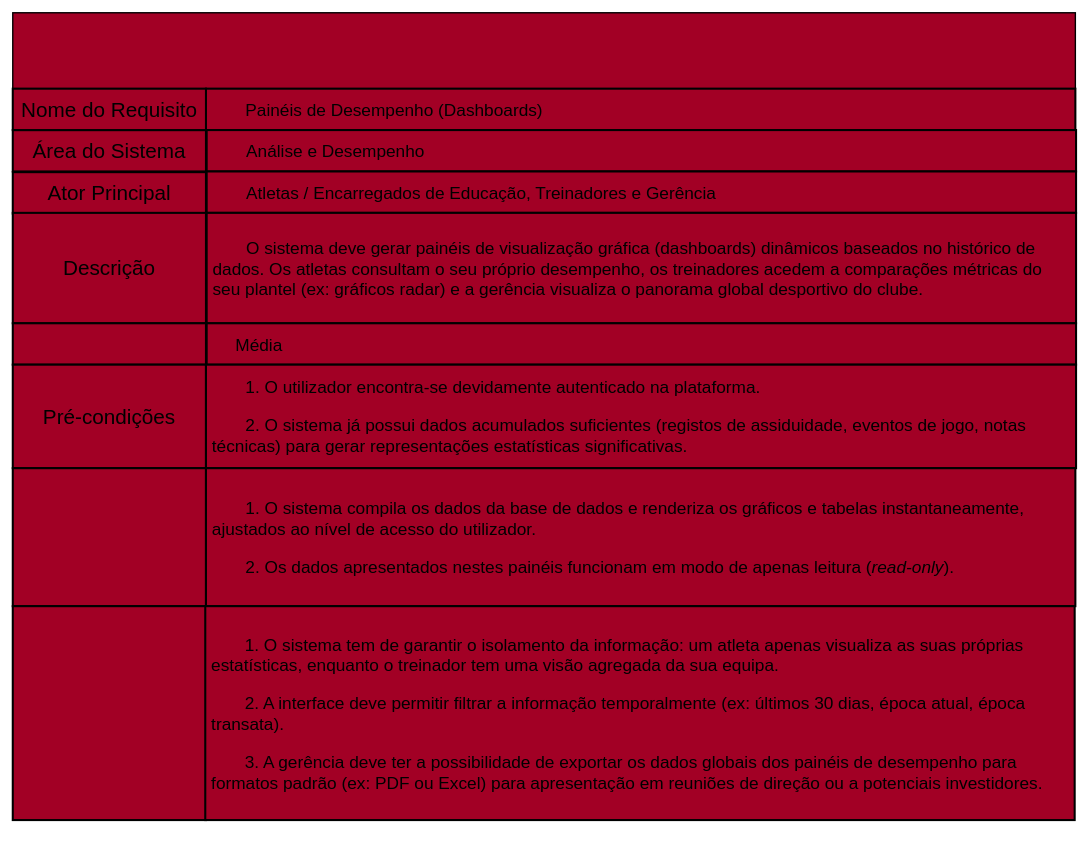
Image size: 1089x842. Some labels were removed from this diagram. The centre of each missing label's shape, as x and y in pixels:
"Critérios de Aceitação" goes at (109,713).
"Prioridade" goes at (109,343).
"Pós-condições" goes at (109,537).
"RF-15" goes at (544,50).
